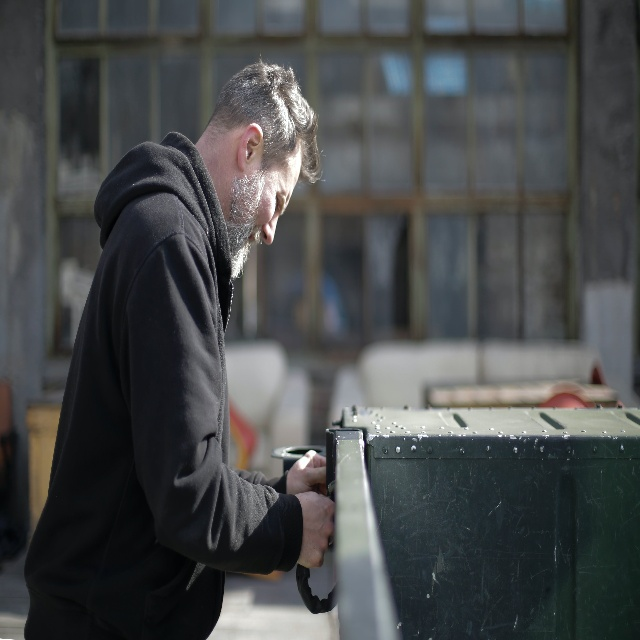Sin_guantes: (295, 489, 335, 573), (289, 447, 325, 495)
